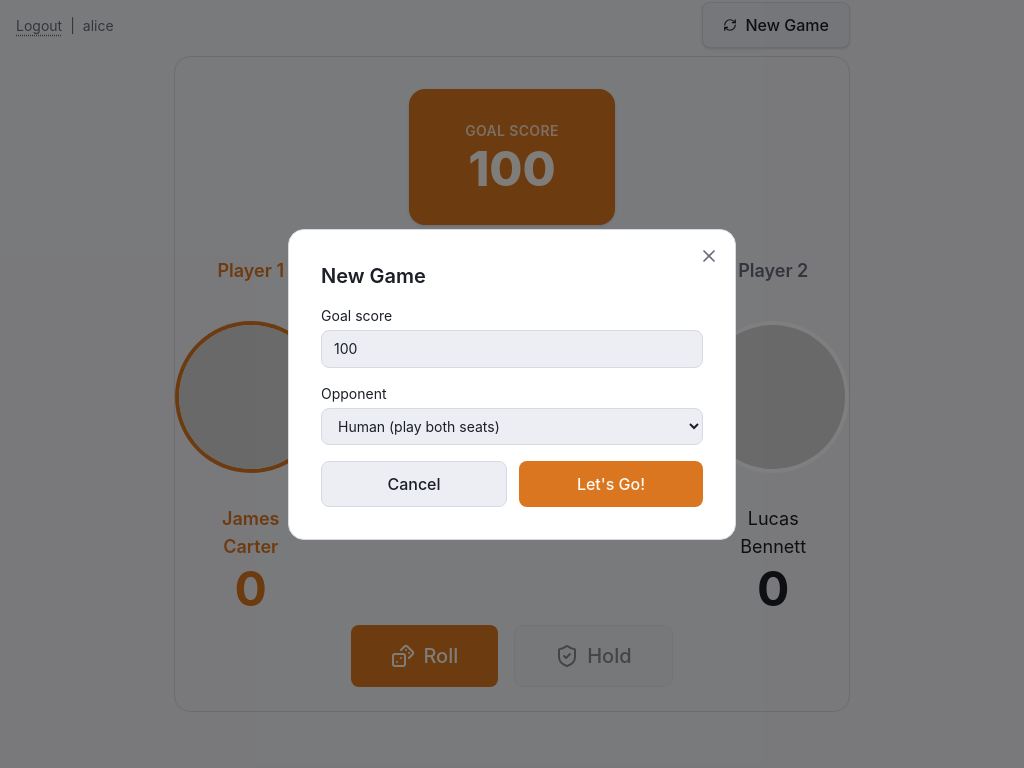
Test: GamePage › should only reset game state when New Game is submitted via "Let's Go!", not merely by opening the modal
The width and height of the screenshot is (1024, 768).
Click the button "Cancel" at (414, 484), box [321,460,507,506]
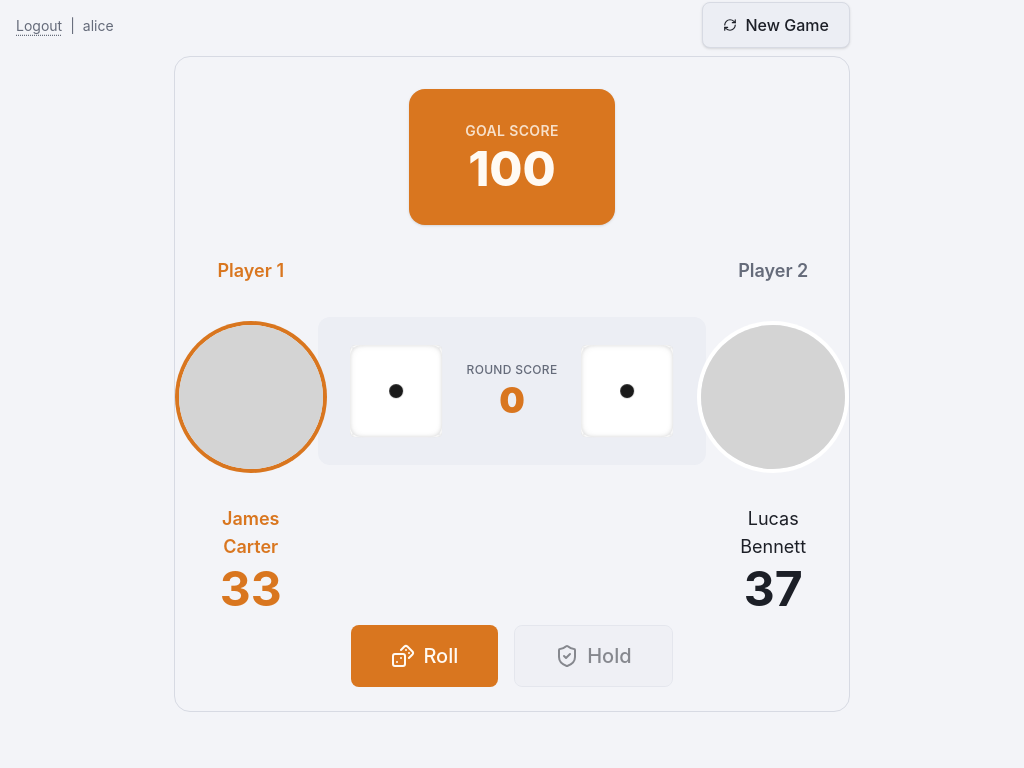
Click the button "New Game" at (776, 25), box [702,2,850,48]
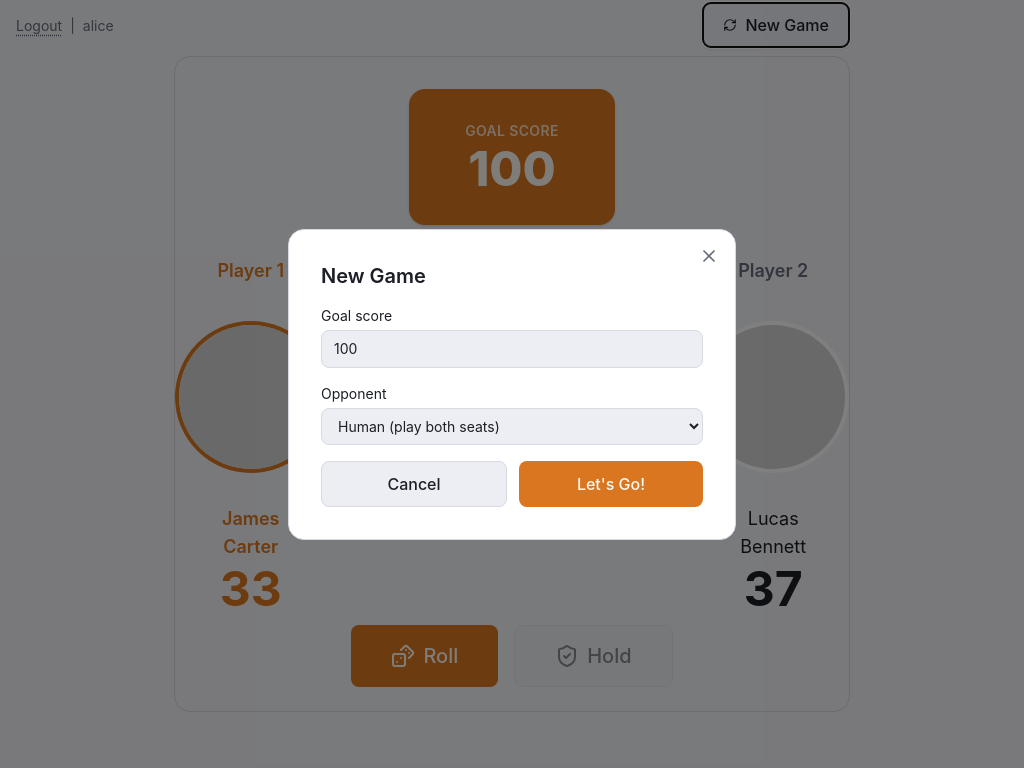
Expected: the text "33" is shown, [220,565,282,613]
Click the button "Let's Go!" at (611, 484), box [519,460,703,506]
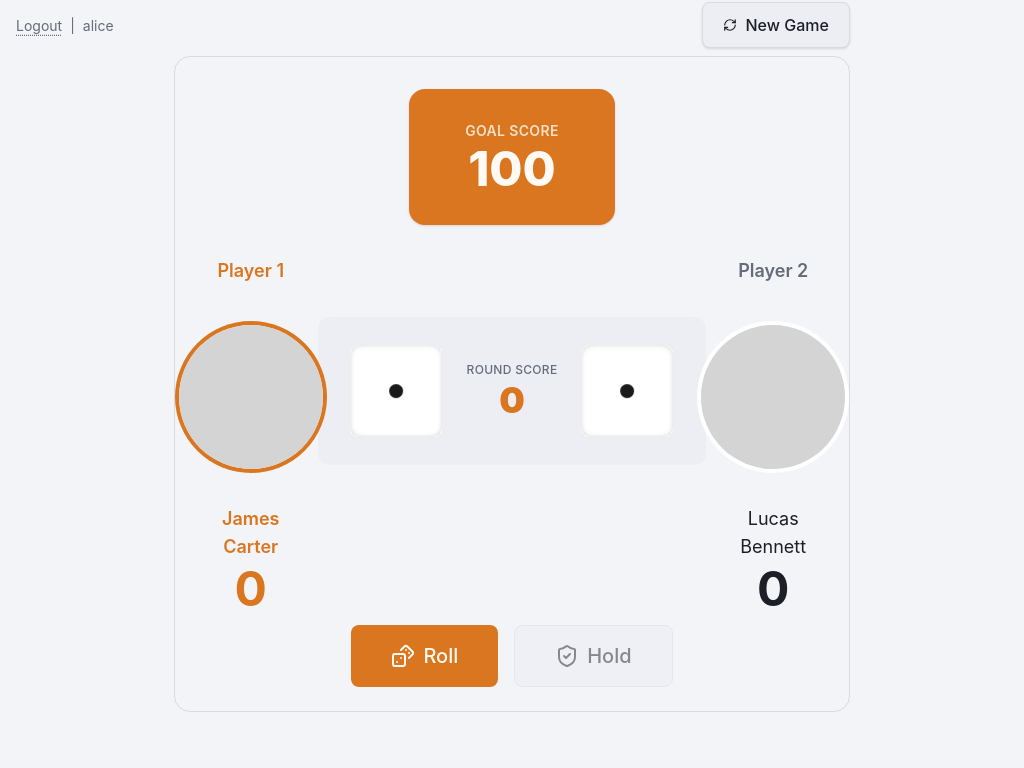
Expected: the text "33" is gone
